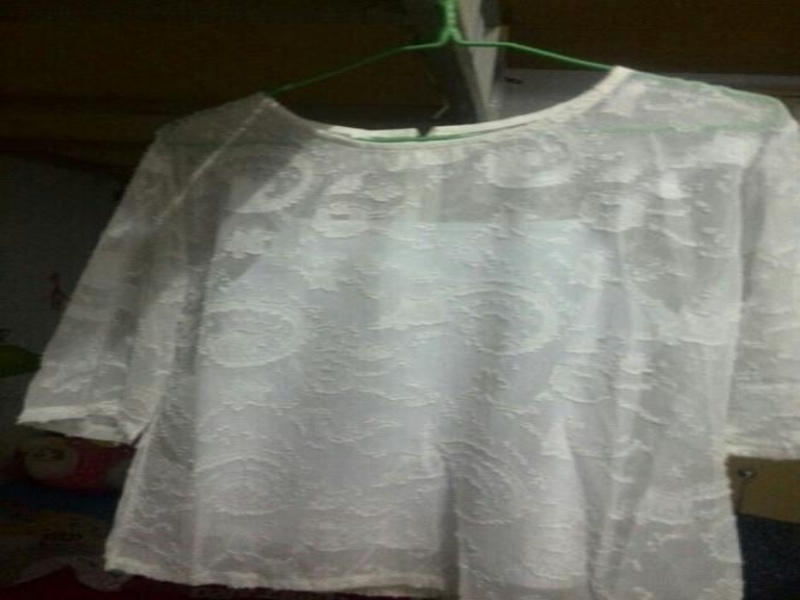long_sleeved_shirt: (14, 64, 797, 599)
